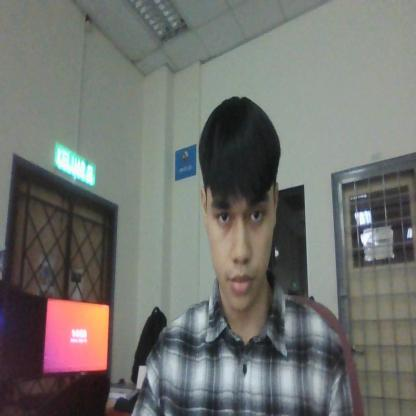Open-Eyes: (206, 185, 273, 236)
